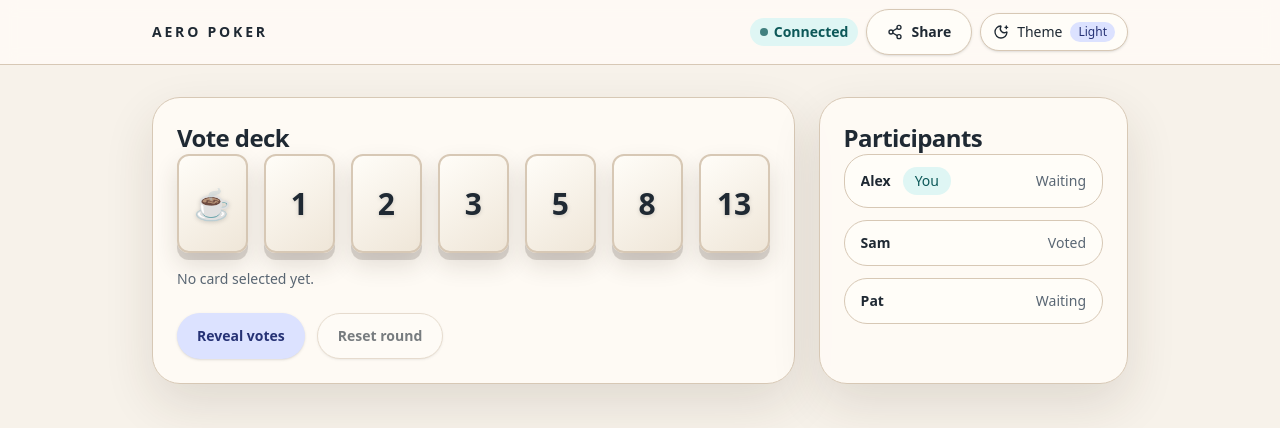
RoomPage › clears stored credentials when the reveal action reports ROOM_NOT_FOUND
This screenshot has width=1280, height=428.
Click the button "Reveal votes" at [241, 336], box x1=177 y1=313 x2=305 y2=359
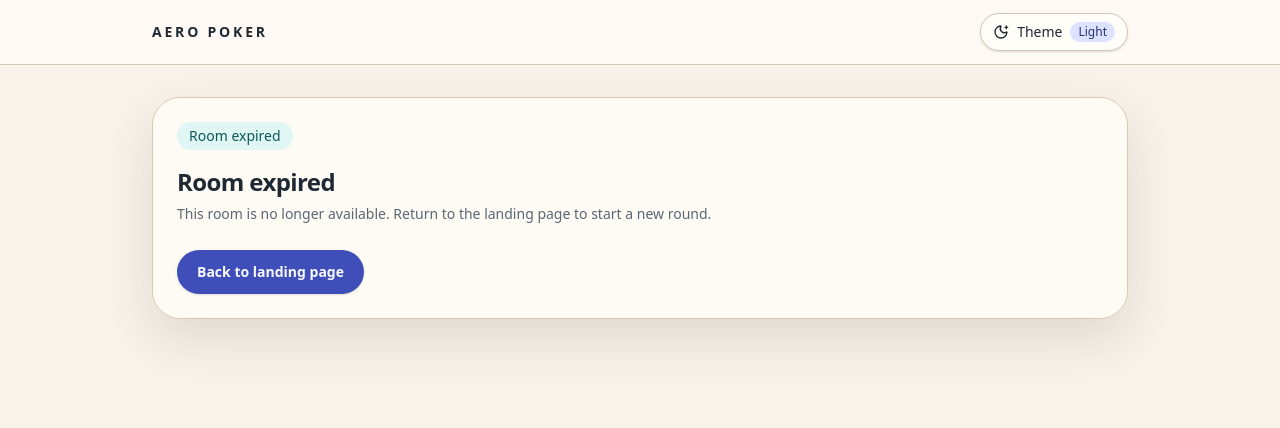
Check: the heading "Room expired" is shown, box x1=177 y1=165 x2=335 y2=198
